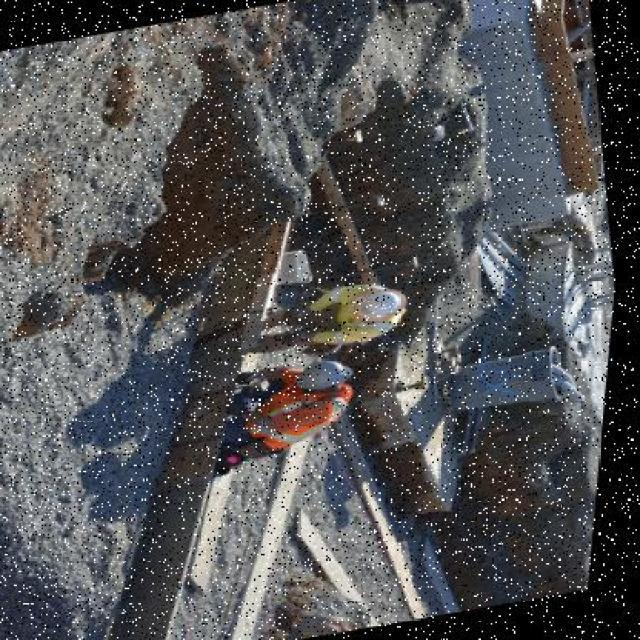helmet: (294, 356, 360, 393), (355, 285, 409, 323)
